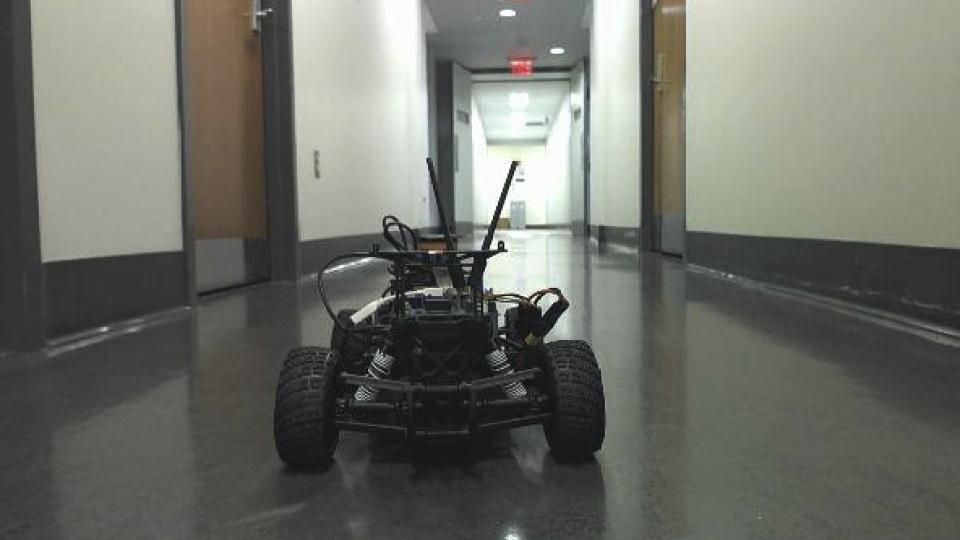car: (269, 154, 608, 474)
